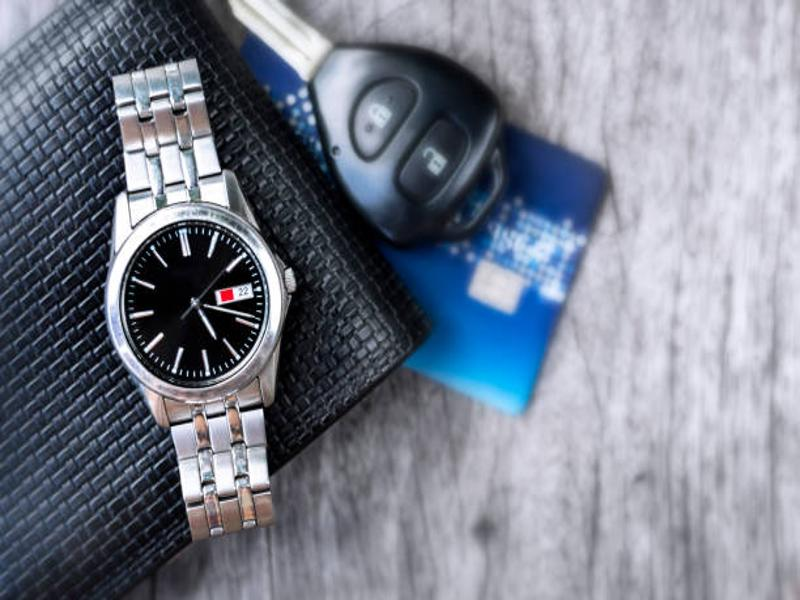watch: (103, 58, 297, 543)
